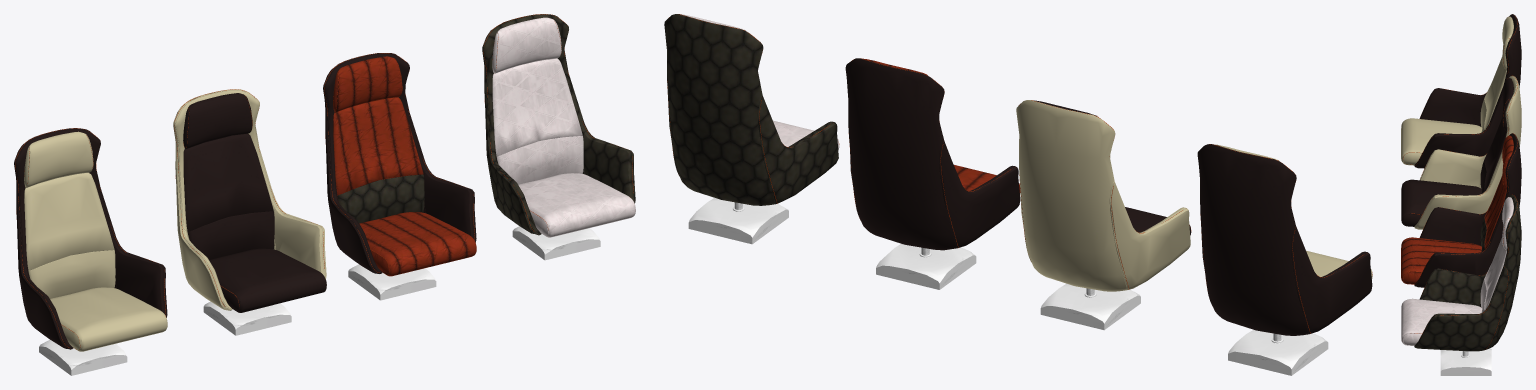
The model's file is chairs-x4.glb.
3 views of the same model, side by side, from view 1: azimuth 30°, elevation 25°; view 2: azimuth 150°, elevation 25°; view 3: azimuth 270°, elevation 25° (orthographic). The views are drawn at different scales.
Visible parts, largest first — view 1: Object_6, Object_31, Object_22, Object_8, Object_7, Object_4, Object_30, Object_26, Object_5; view 2: Object_6, Object_30, Object_8, Object_4, Object_5, Object_7, Object_22, Object_31; view 3: Object_6, Object_30, Object_8, Object_31, Object_22, Object_7, Object_4, Object_5, Object_26.
Part boxes in pixels (x1,y1,x2,y2): Object_6: [14, 53, 476, 349]; Object_31: [492, 17, 635, 237]; Object_22: [333, 56, 476, 276]; Object_8: [24, 89, 326, 310]; Object_7: [24, 131, 167, 351]; Object_4: [39, 226, 600, 375]; Object_30: [482, 14, 635, 235]; Object_26: [337, 174, 424, 223]; Object_5: [15, 14, 633, 349]; Object_6: [845, 58, 1372, 335]; Object_30: [664, 14, 838, 205]; Object_8: [1016, 100, 1190, 291]; Object_4: [688, 198, 1328, 375]; Object_5: [667, 14, 1372, 333]; Object_7: [1215, 144, 1372, 279]; Object_22: [863, 58, 1020, 192]; Object_31: [682, 14, 839, 149]; Object_6: [1401, 14, 1521, 287]; Object_30: [1414, 195, 1521, 351]; Object_8: [1414, 57, 1521, 229]; Object_31: [1401, 197, 1513, 345]; Object_22: [1401, 135, 1513, 284]; Object_7: [1401, 16, 1513, 165]; Object_4: [1440, 348, 1491, 375]; Object_5: [1403, 15, 1517, 348]; Object_26: [1480, 217, 1486, 251].
Bounding box in the file's own units: 2.72 × 0.8845 × 0.6079.
Materials: 10 (10 with a texture image).
